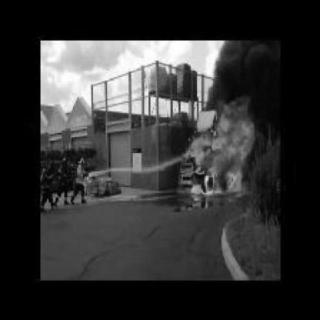Fire: (185, 95, 259, 197)
